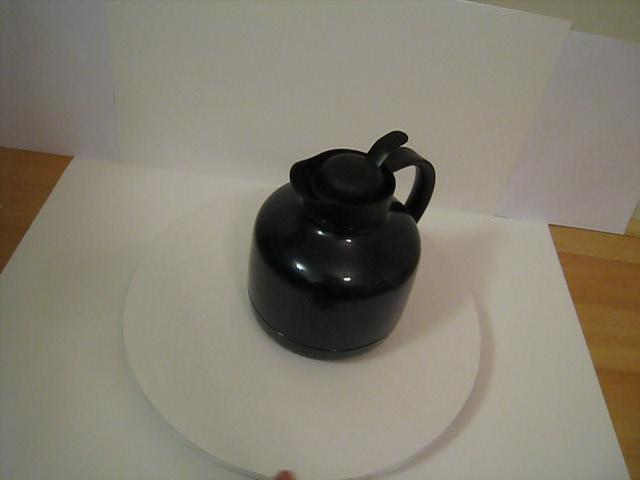pitcher: (238, 117, 442, 370)
